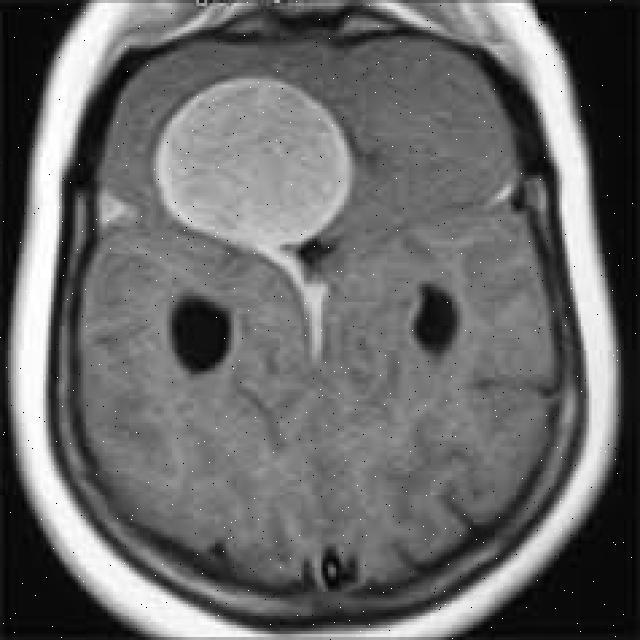Meningioma: (155, 78, 352, 358)
